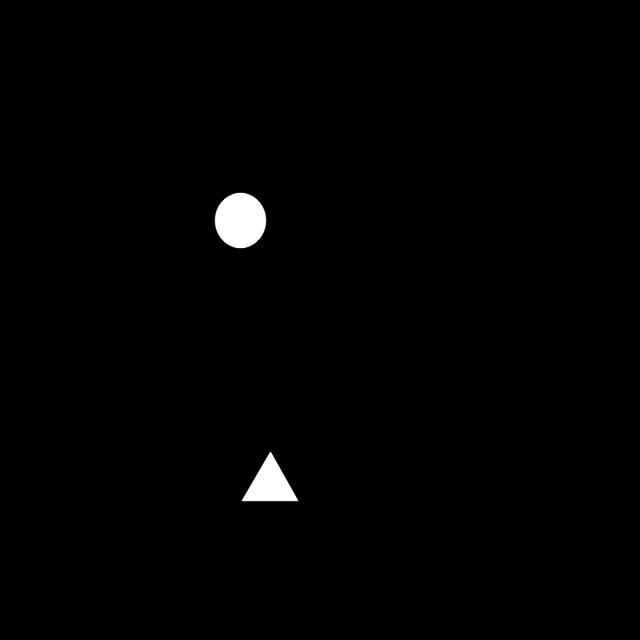Circle: (203, 181, 273, 260)
Triangle: (232, 436, 305, 522)
